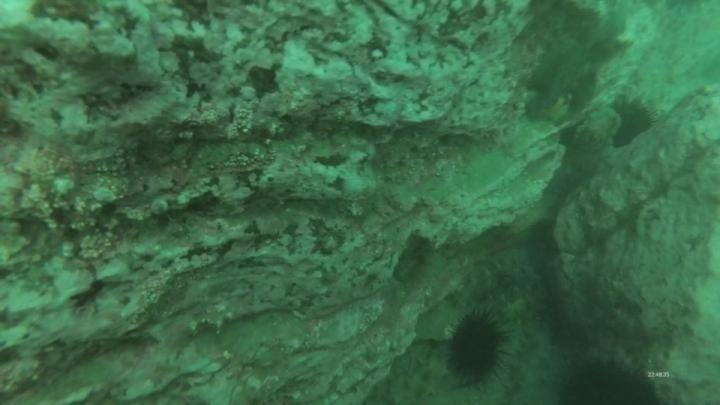echinus: (551, 350, 664, 405), (441, 307, 511, 386), (607, 95, 657, 149)
holothurian: (385, 349, 456, 405), (502, 320, 548, 405), (496, 282, 551, 329)
